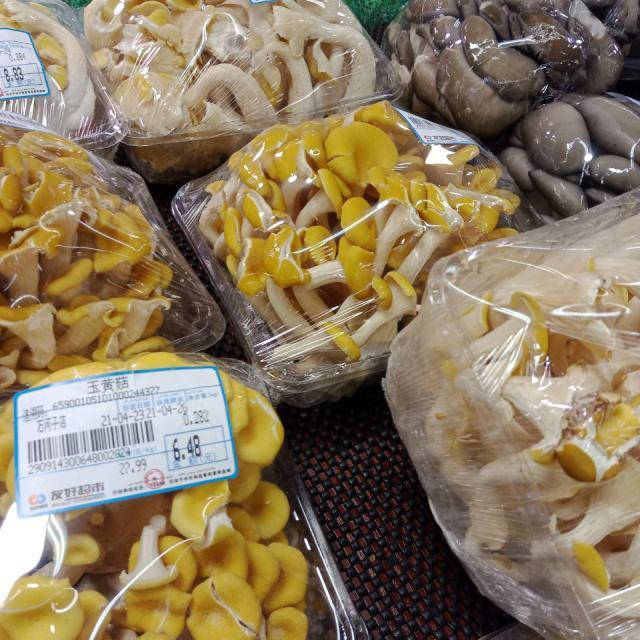Pleurotus citrinopileatus: (0, 360, 304, 640), (211, 110, 497, 346), (483, 271, 640, 602), (0, 127, 182, 360), (89, 0, 375, 118)
